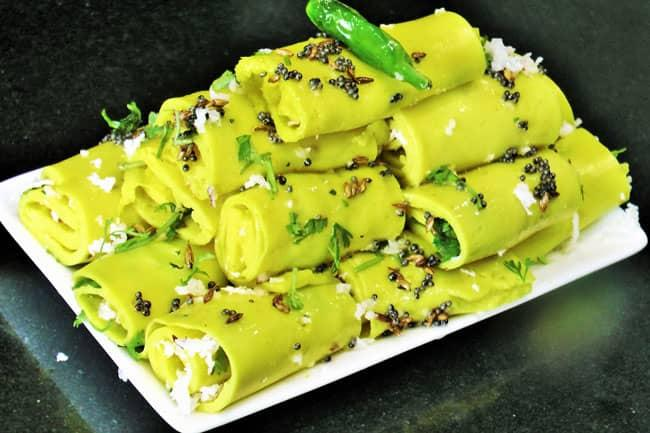khandvi: (16, 38, 641, 417)
